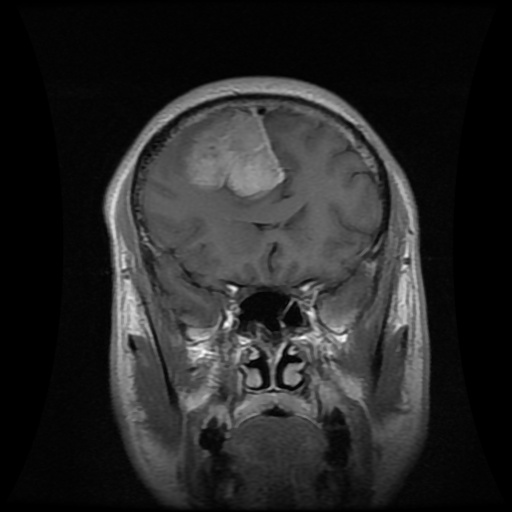meningioma: (184, 110, 285, 195)
